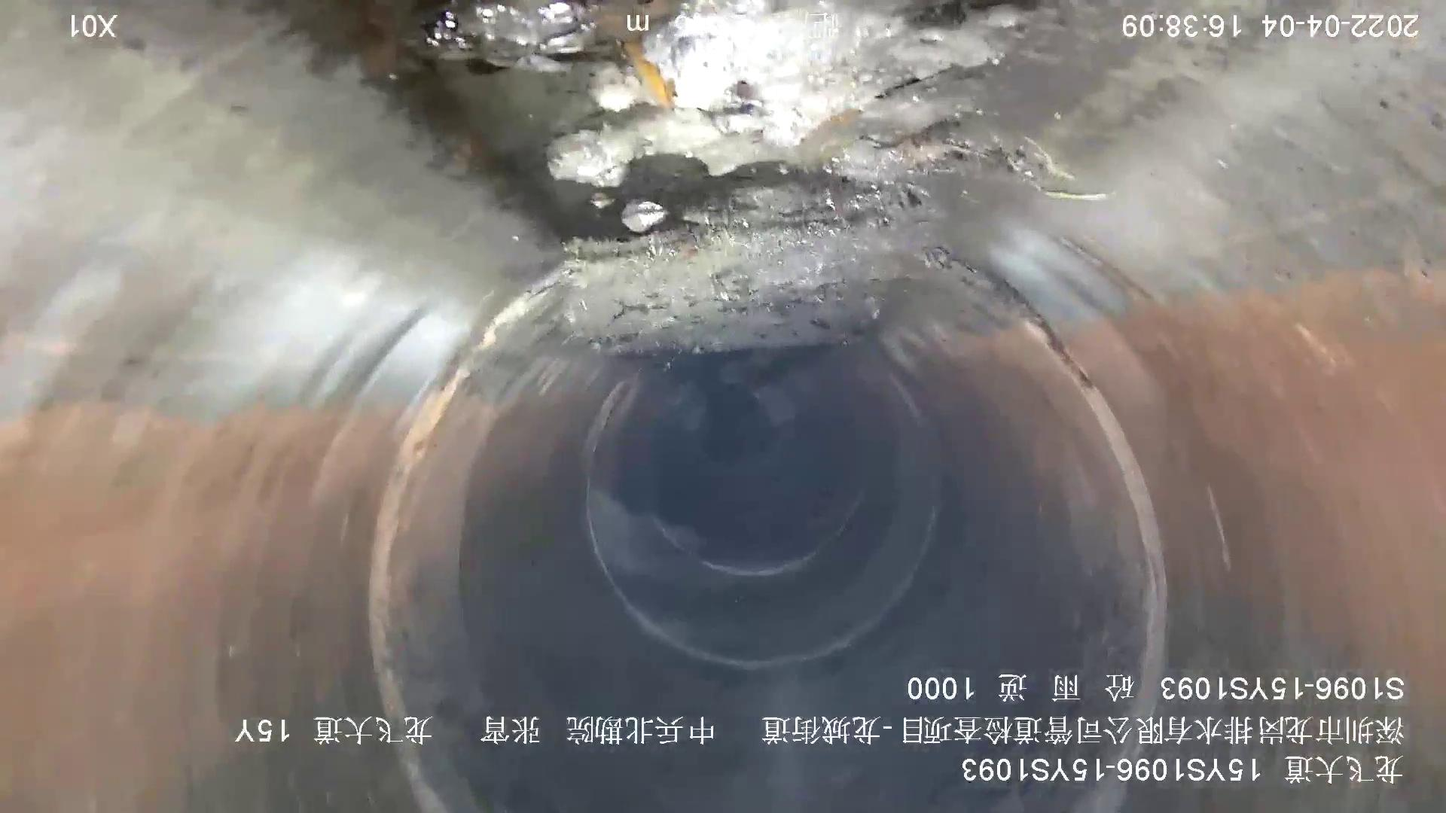CJ: (428, 1, 1102, 353)
CKTJ: (972, 261, 1182, 813), (362, 324, 505, 811)
